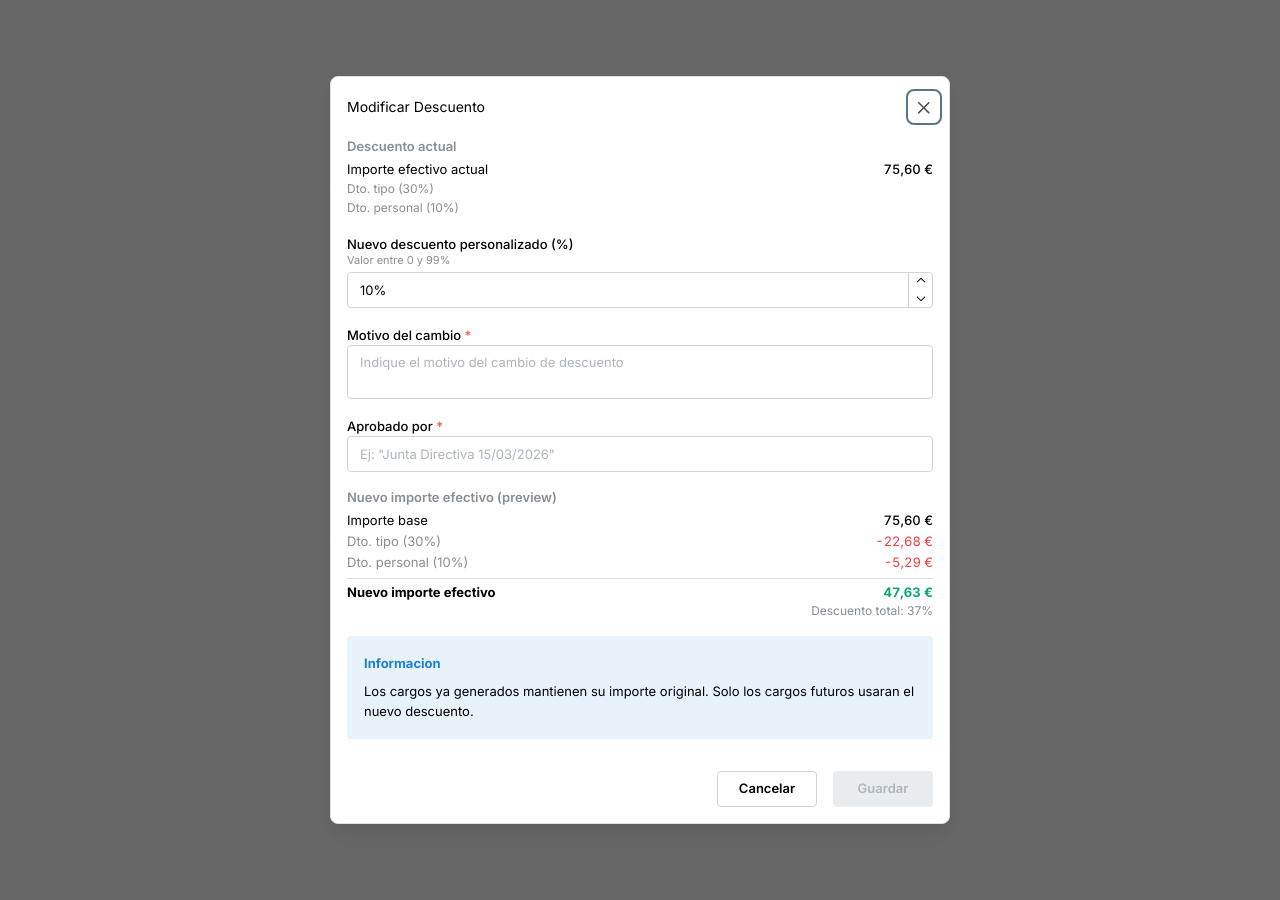
Test: UpdateDiscountModal › validacion del formulario › deberia habilitar boton Guardar cuando motivo y aprobado por son validos
The image size is (1280, 900).
In the text box with placeholder "Indique el motivo del cambio de descuento": (640, 372) [347,345,933,398], type "Descuento por antiguedad"
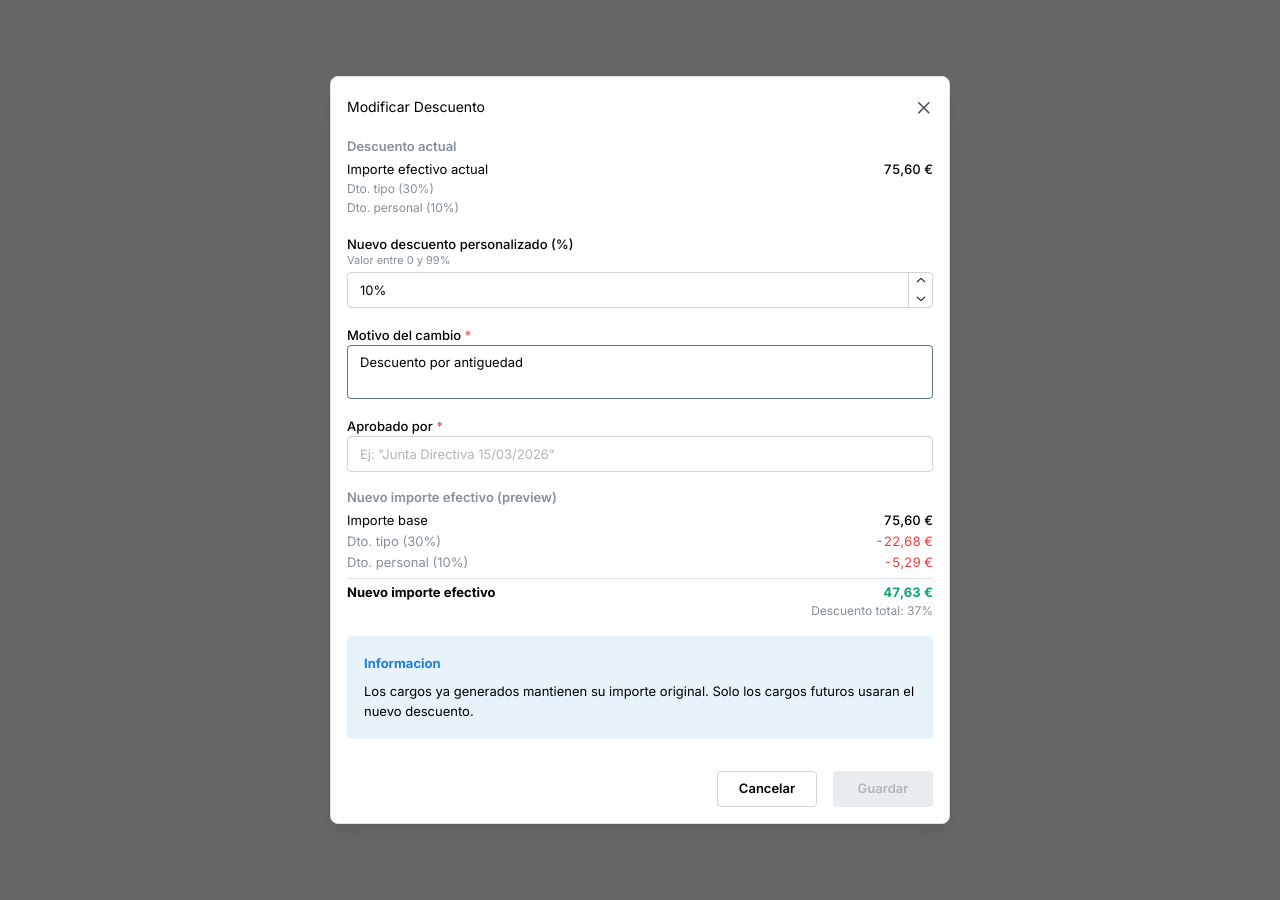
In the field with placeholder "Ej: \"Junta Directiva 15/03/2026\"": (640, 454) [347,436,933,472], type "Junta Directiva"
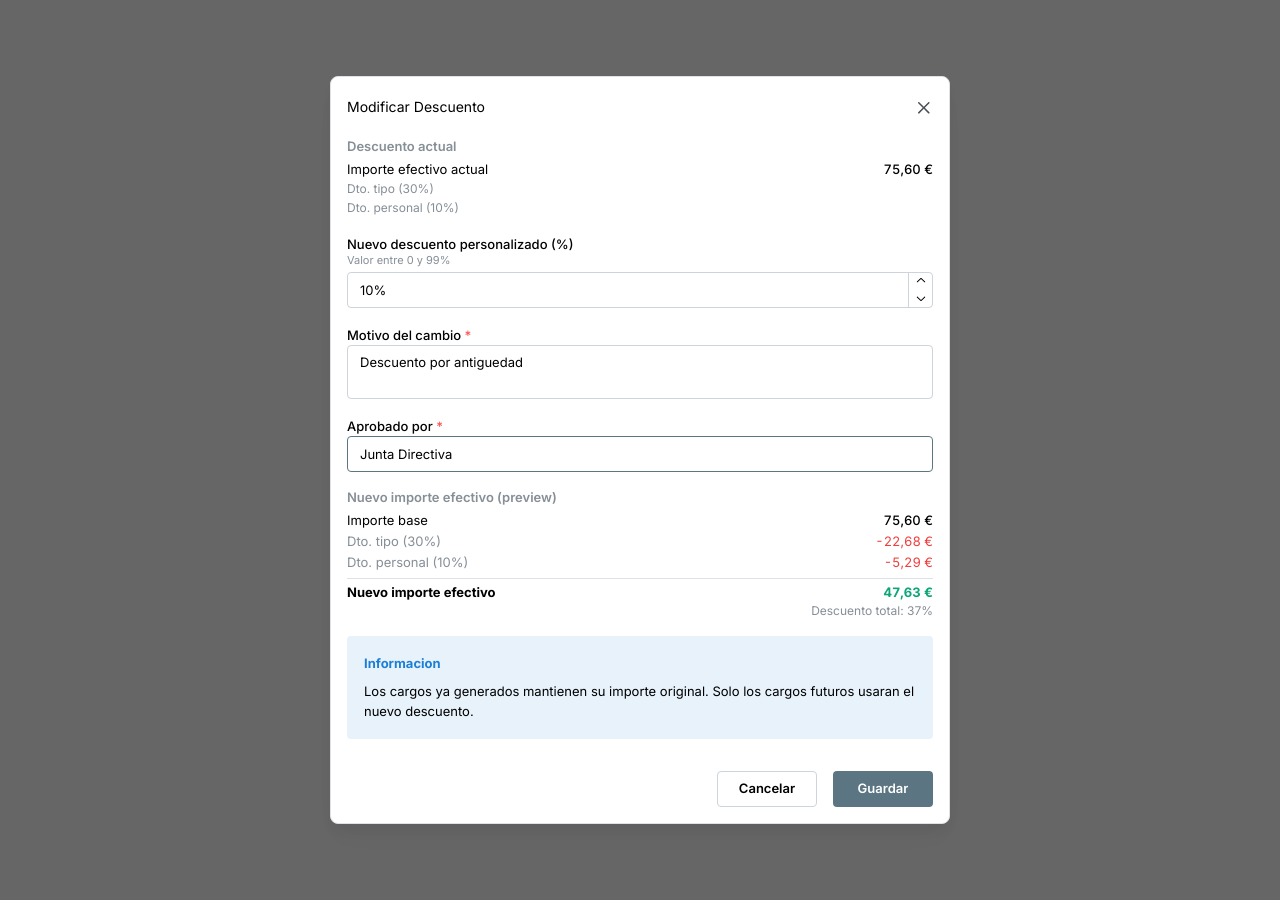
expect the button "Guardar" is enabled: met, box [833,771,933,807]
